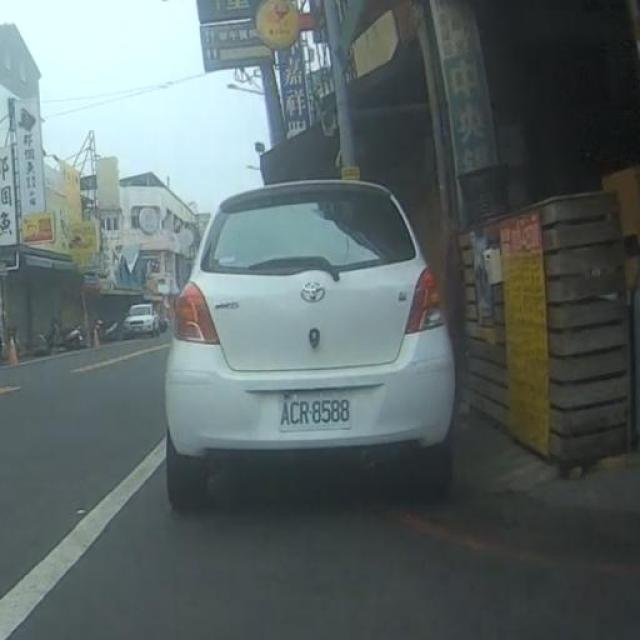Legalparking: (125, 304, 165, 338)
illegalparking: (166, 179, 455, 510)
